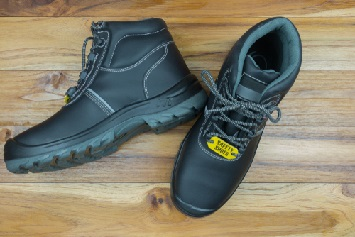Steel-toe Boots: (8, 7, 207, 171), (162, 15, 314, 216)
